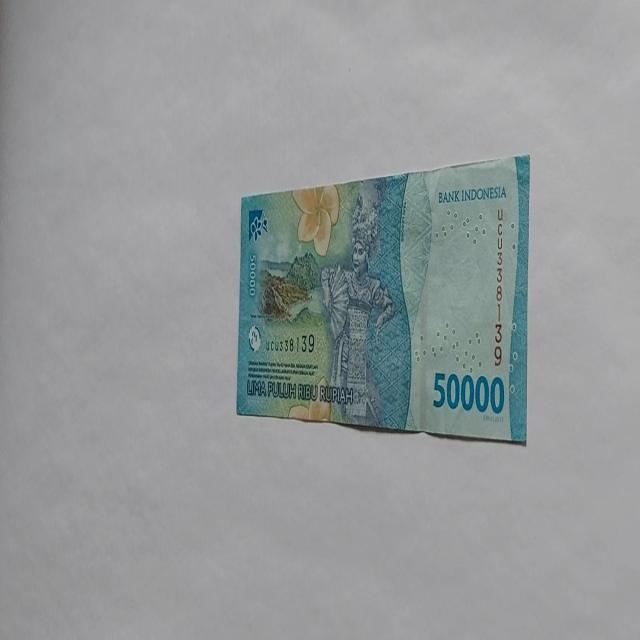lima puluh ribu rupiah: (235, 152, 531, 444)
